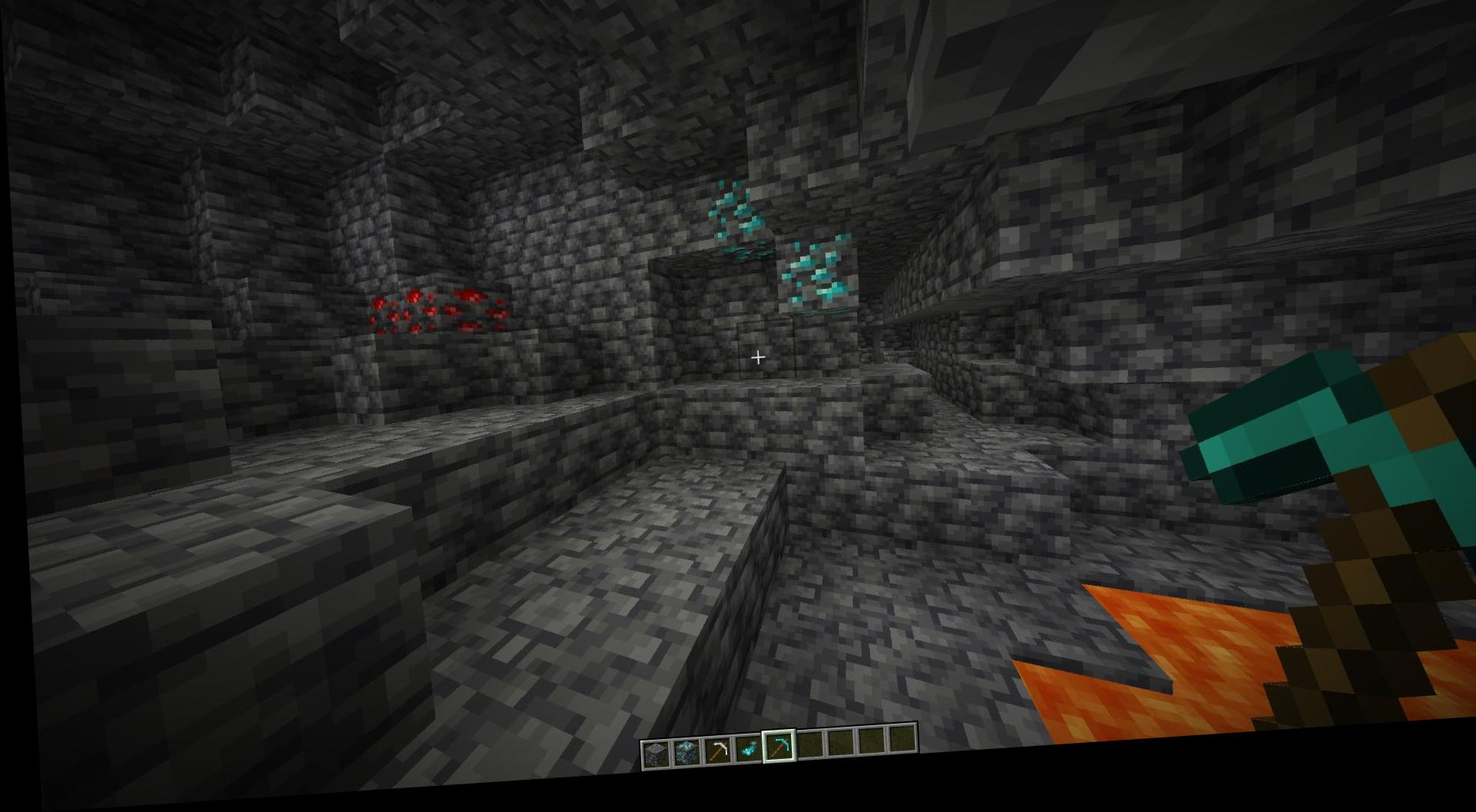diamond ore: (773, 241, 860, 321), (706, 183, 767, 250), (731, 250, 773, 276)
redstone ore: (436, 282, 511, 348), (401, 287, 439, 344), (359, 292, 399, 344)
